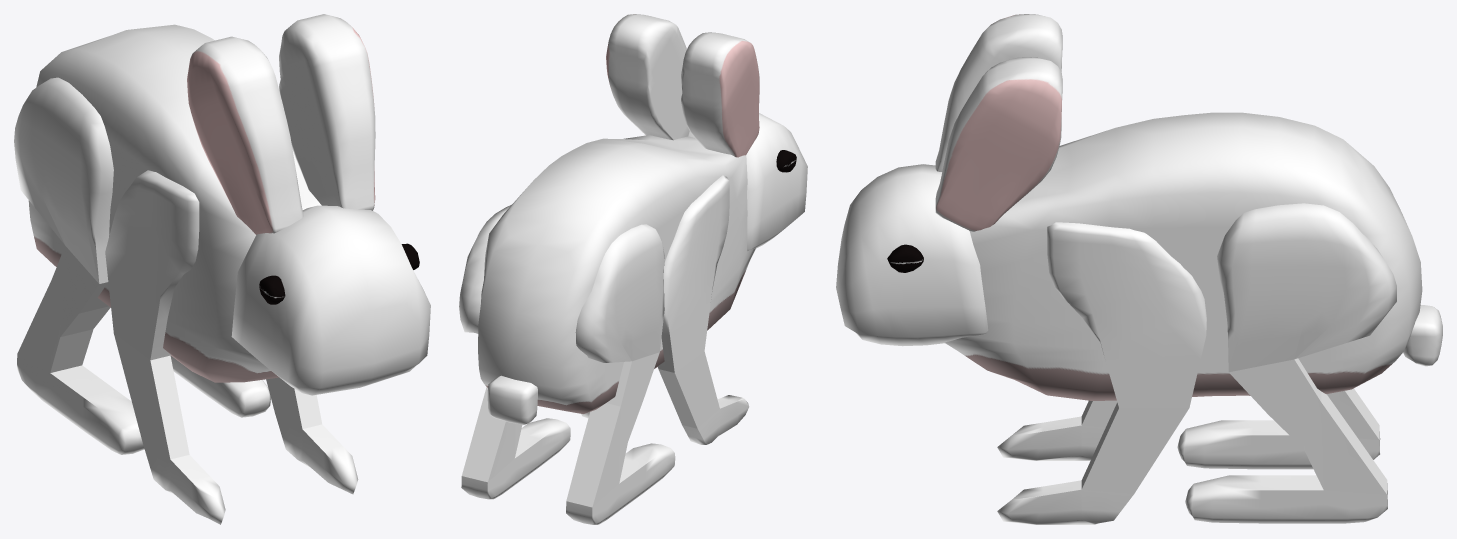
Rendered from rabbit_4.fbx.
The picture shows the model from 3 angles, left to right: view 1: azimuth 30°, elevation 25°; view 2: azimuth 150°, elevation 25°; view 3: azimuth 270°, elevation 25°; orthographic projection. The views are drawn at different scales.
Parts seen in each view (by area): view 1: rabbit1; view 2: rabbit1; view 3: rabbit1.
Boxes of the visible parts, box(x1,y1,x2,y2) form: rabbit1: box(14, 14, 430, 524); rabbit1: box(459, 14, 807, 524); rabbit1: box(836, 14, 1442, 524).
Size of the model in its own units: 3.96 by 10.41 by 12.68.
